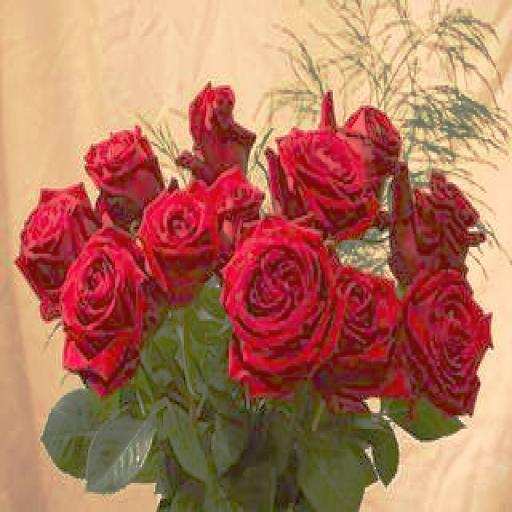rose: (221, 220, 342, 400), (59, 225, 160, 395), (400, 265, 496, 442), (266, 124, 380, 250), (382, 164, 486, 276), (16, 178, 99, 314), (325, 268, 405, 406), (138, 189, 220, 303), (180, 78, 258, 188), (82, 126, 171, 216), (189, 164, 267, 251)
